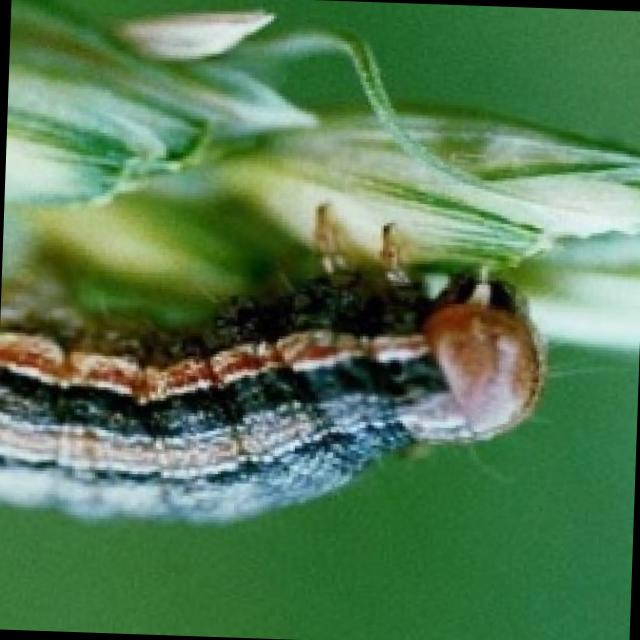armyworm: (1, 187, 562, 558)
